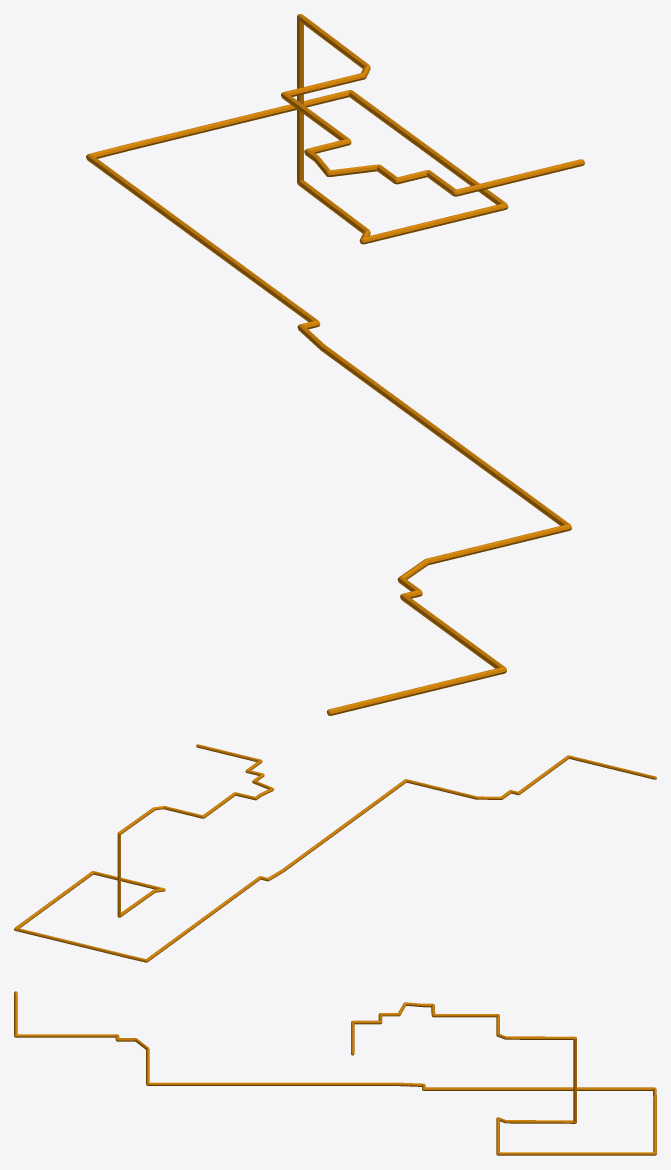
3 views of the same model, one above another, from view 1: azimuth 30°, elevation 25°; view 2: azimuth 150°, elevation 25°; view 3: azimuth 270°, elevation 25° (orthographic). The views are drawn at different scales.
Size of the model in its own units: 2081 by 520 by 3481.
